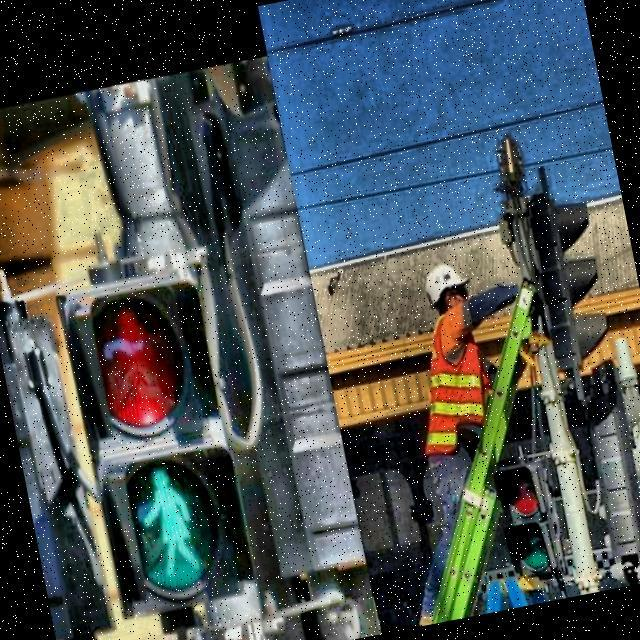green_light: (130, 462, 204, 584)
